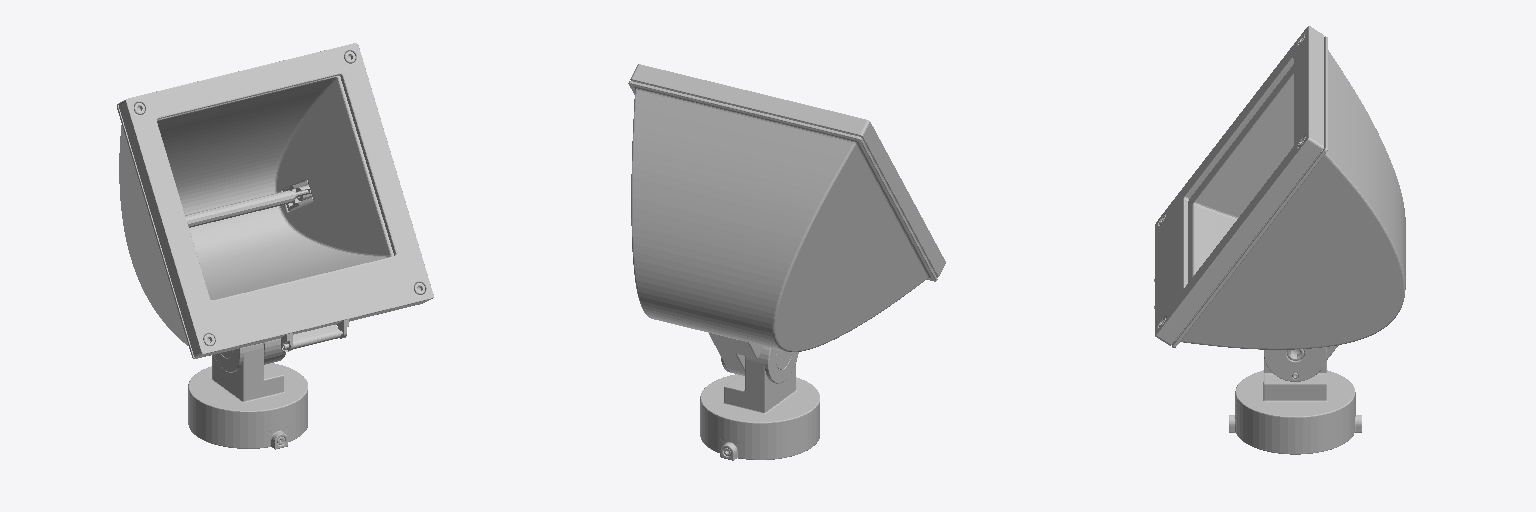
Rendered from Faretto B1.obj.
3 views of the same model, side by side, from view 1: azimuth 30°, elevation 25°; view 2: azimuth 150°, elevation 25°; view 3: azimuth 270°, elevation 25° (orthographic).
Parts seen in each view (by area): view 1: SingleA002, Vetro1, Lampadina1; view 2: SingleA002; view 3: SingleA002, Vetro1.
Boxes of the visible parts, <box> form: SingleA002: <box>117,43,433,449</box>; Vetro1: <box>157,76,393,299</box>; Lampadina1: <box>185,190,308,227</box>; SingleA002: <box>628,64,945,460</box>; SingleA002: <box>1154,26,1405,454</box>; Vetro1: <box>1188,64,1293,282</box>.
Size of the model in its own units: 340 by 488 by 318.